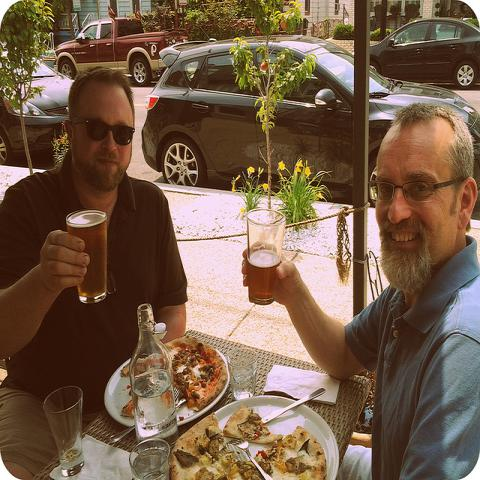car: (141, 35, 479, 221), (0, 46, 73, 164), (370, 17, 479, 90)
truck: (53, 17, 190, 86)
